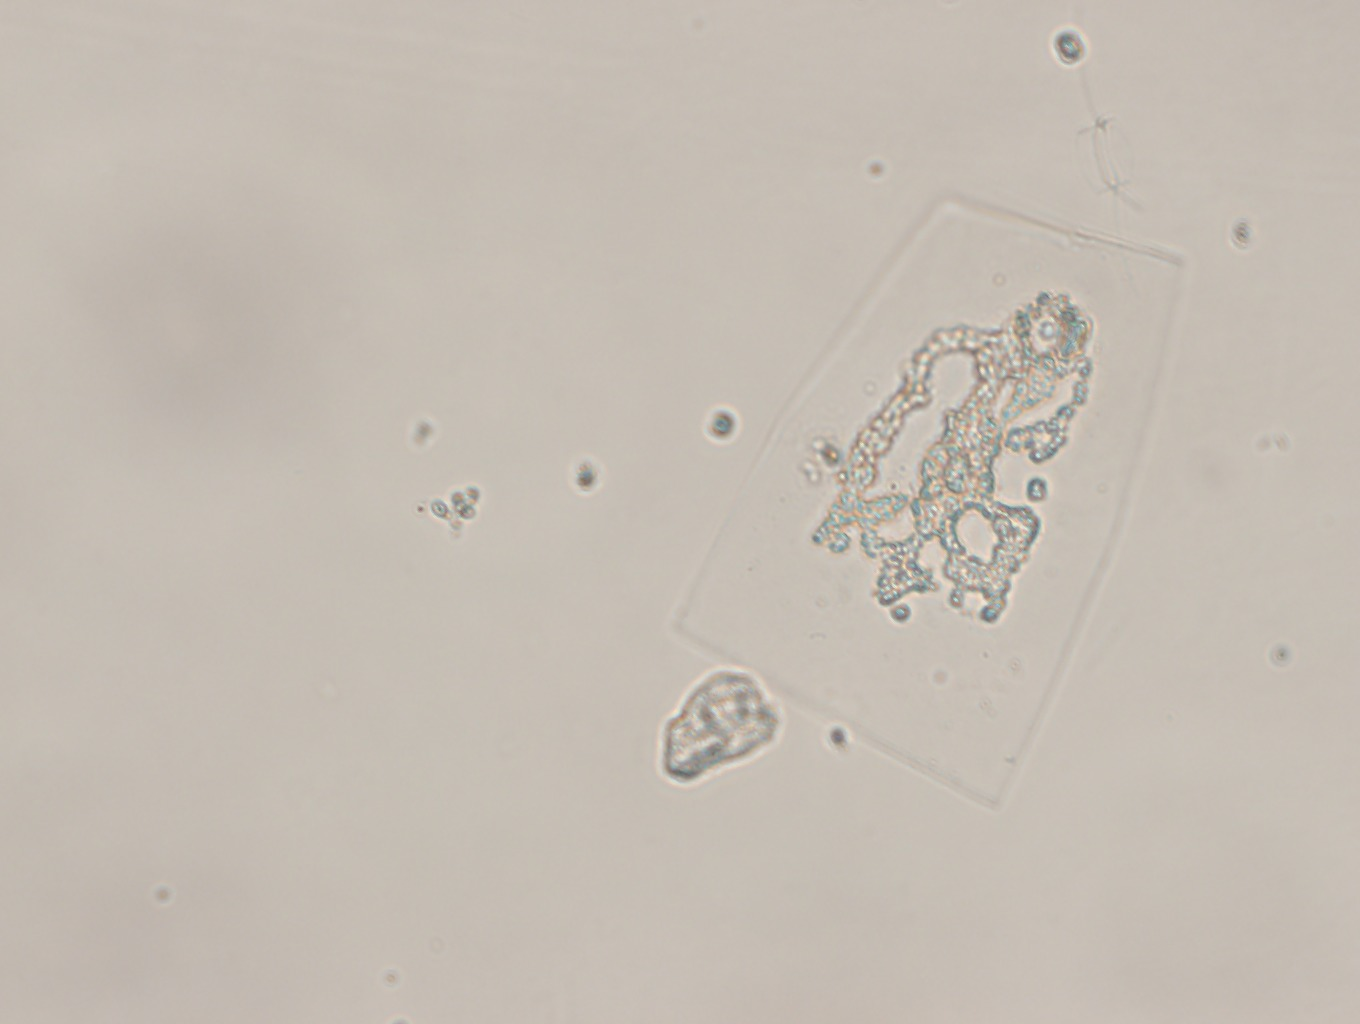helicotheca: (671, 139, 1189, 845)
